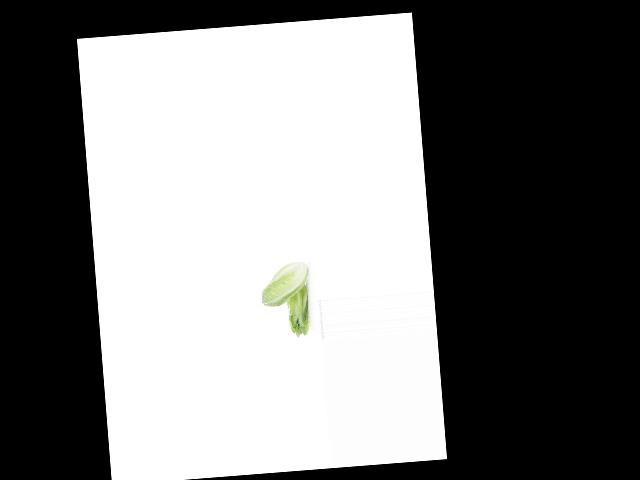lettuce: (280, 284, 317, 337)
